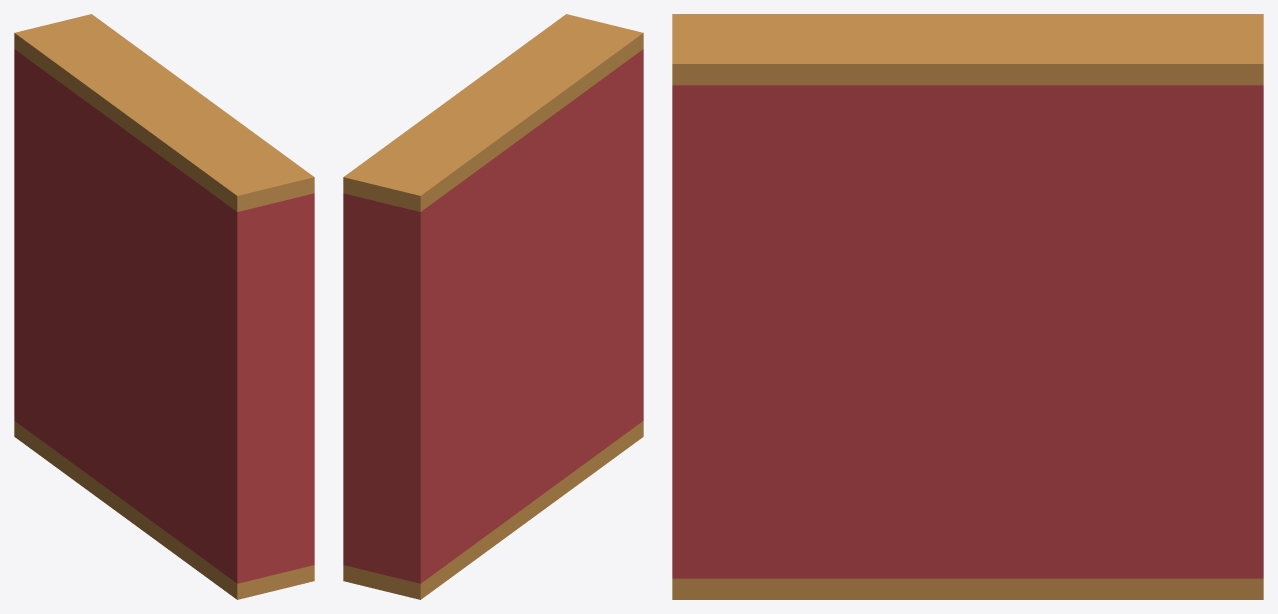
File: wall(middle) x3.obj
The picture shows the model from 3 angles, left to right: view 1: azimuth 30°, elevation 25°; view 2: azimuth 150°, elevation 25°; view 3: azimuth 270°, elevation 25°; orthographic projection. The views are drawn at different scales.
Parts seen in each view (by area): view 1: wall(middle) x3; view 2: wall(middle) x3; view 3: wall(middle) x3.
Part boxes in pixels (<box>): wall(middle) x3: <box>14,14,314,599</box>; wall(middle) x3: <box>343,14,643,599</box>; wall(middle) x3: <box>672,14,1263,599</box>.
Size of the model in its own units: 0.2 by 1 by 1.
